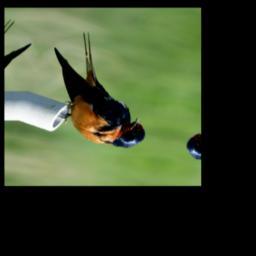Swallow: (28, 28, 176, 152)
